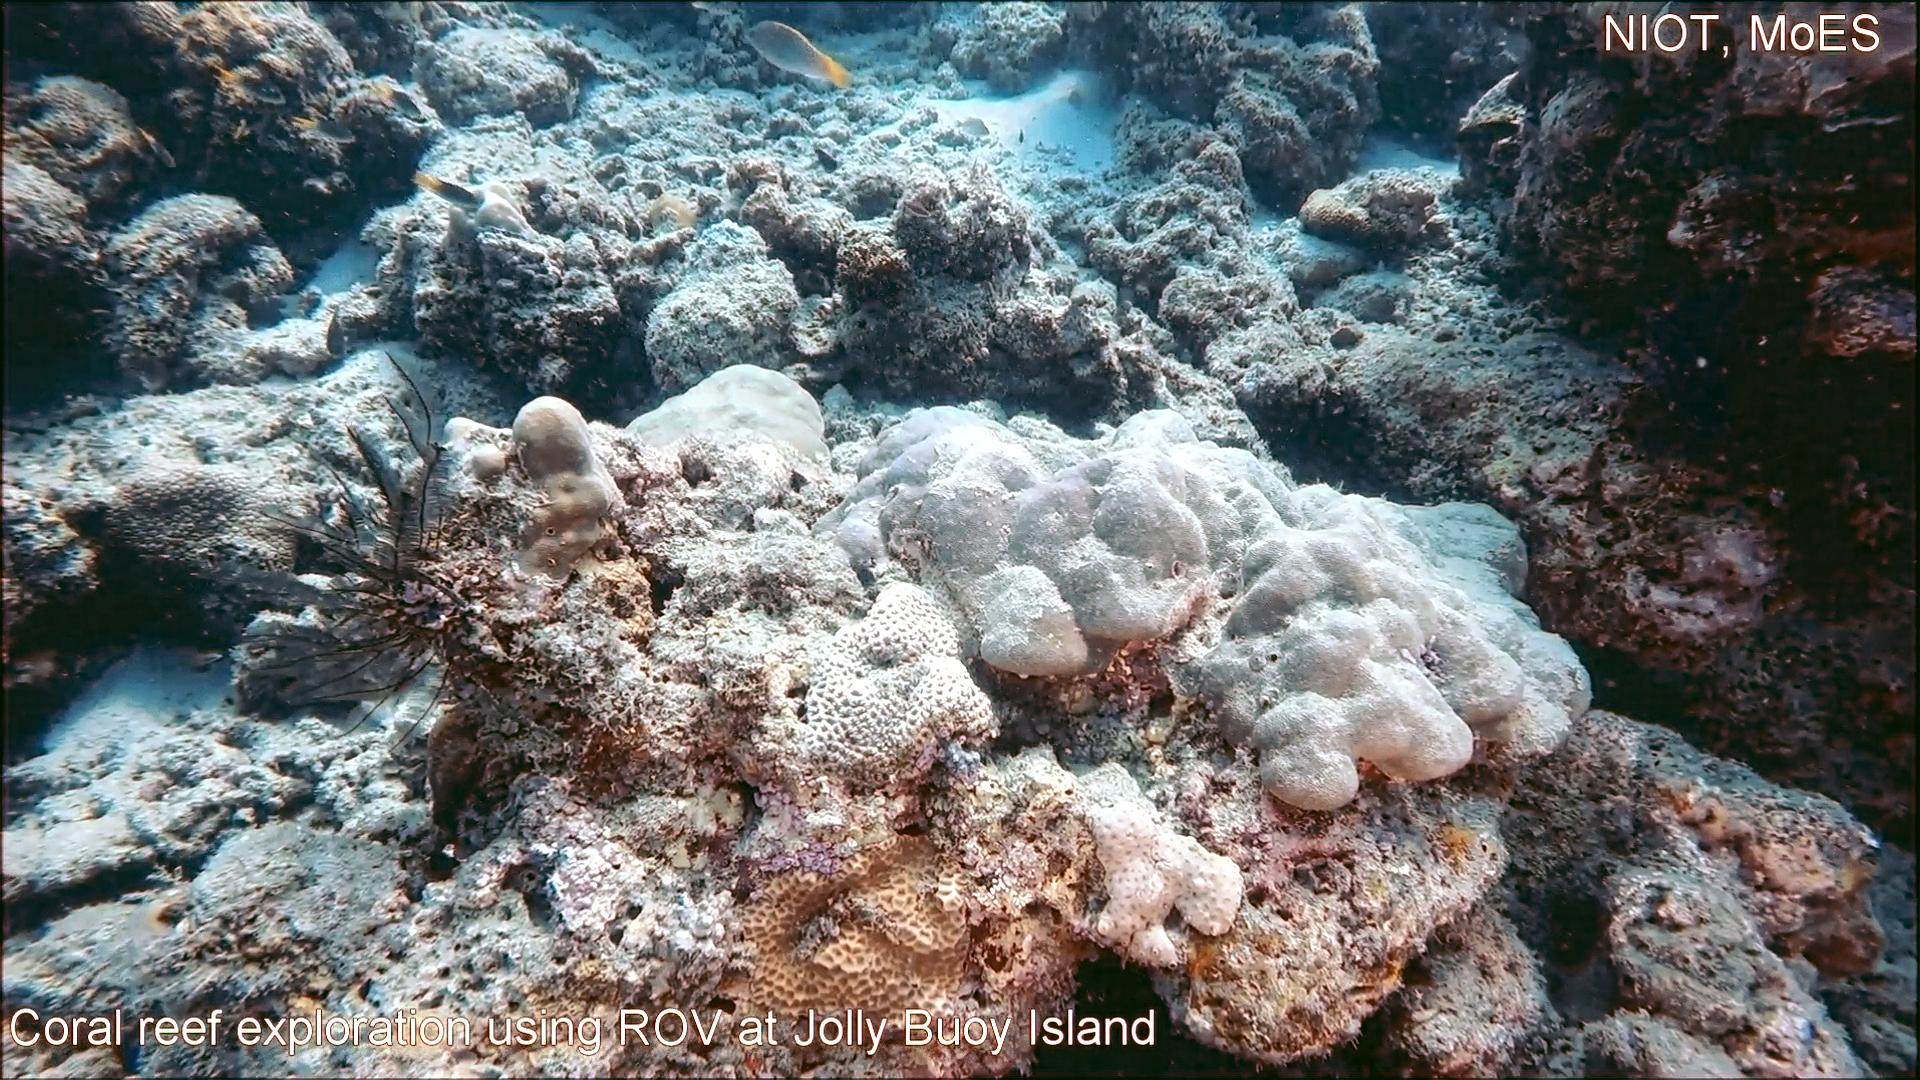Feather star-Crinoid star: (193, 343, 481, 770)
Goniastrea-Goniastrea pectinata: (800, 575, 1007, 798)
Porites-Porites pukoensis: (1088, 401, 1598, 820)
Turbinaria-Turbinaria stellulata: (98, 456, 305, 583)
